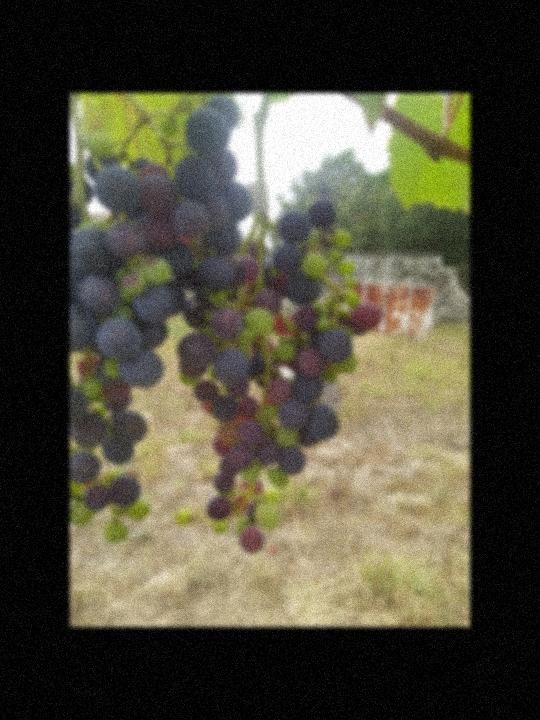grape: (70, 97, 254, 545), (174, 194, 386, 557)
